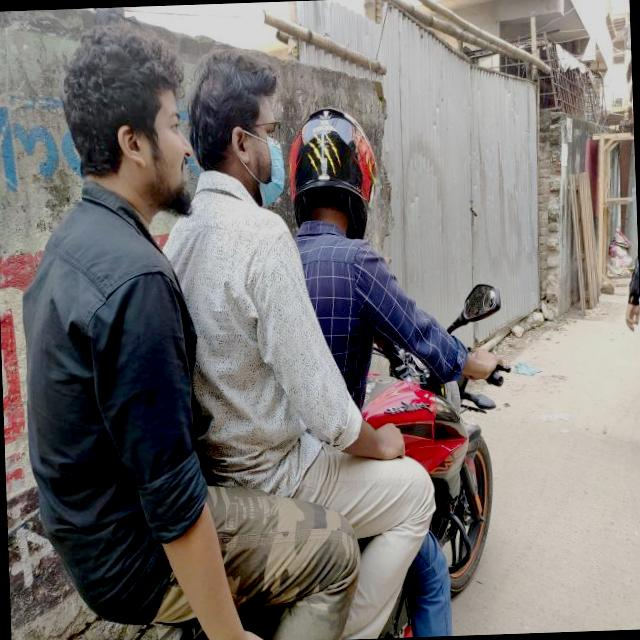motorcycle: (163, 275, 529, 640)
person: (3, 37, 227, 640), (273, 104, 504, 640), (179, 59, 360, 640)
